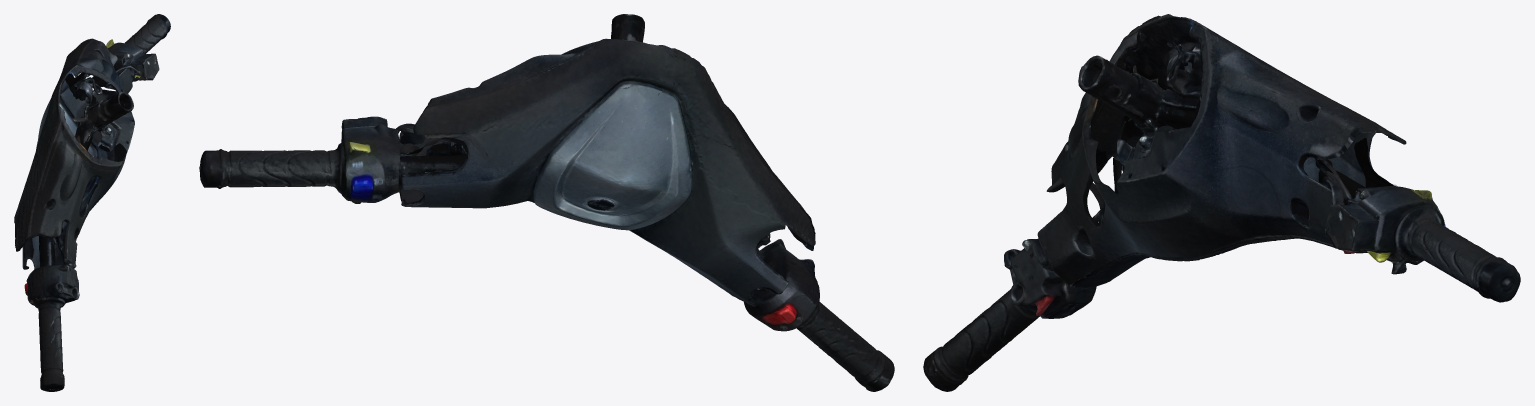
3 renders of one model, left to right at view 1: azimuth 30°, elevation 25°; view 2: azimuth 150°, elevation 25°; view 3: azimuth 270°, elevation 25°, orthographic. The views are drawn at different scales.
Parts seen in each view (by area): view 1: SA-F05-01; view 2: SA-F05-01; view 3: SA-F05-01.
Part boxes in pixels (x1,y1,x2,y2): SA-F05-01: (14, 14, 170, 391); SA-F05-01: (199, 14, 894, 391); SA-F05-01: (923, 14, 1520, 391).
Size of the model in its own units: 469 by 397 by 483.
Materials: 1 (1 with a texture image).
